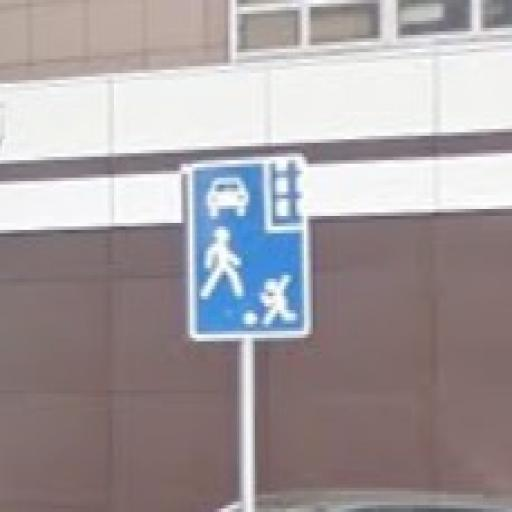traffic_sign: (189, 158, 312, 342)
